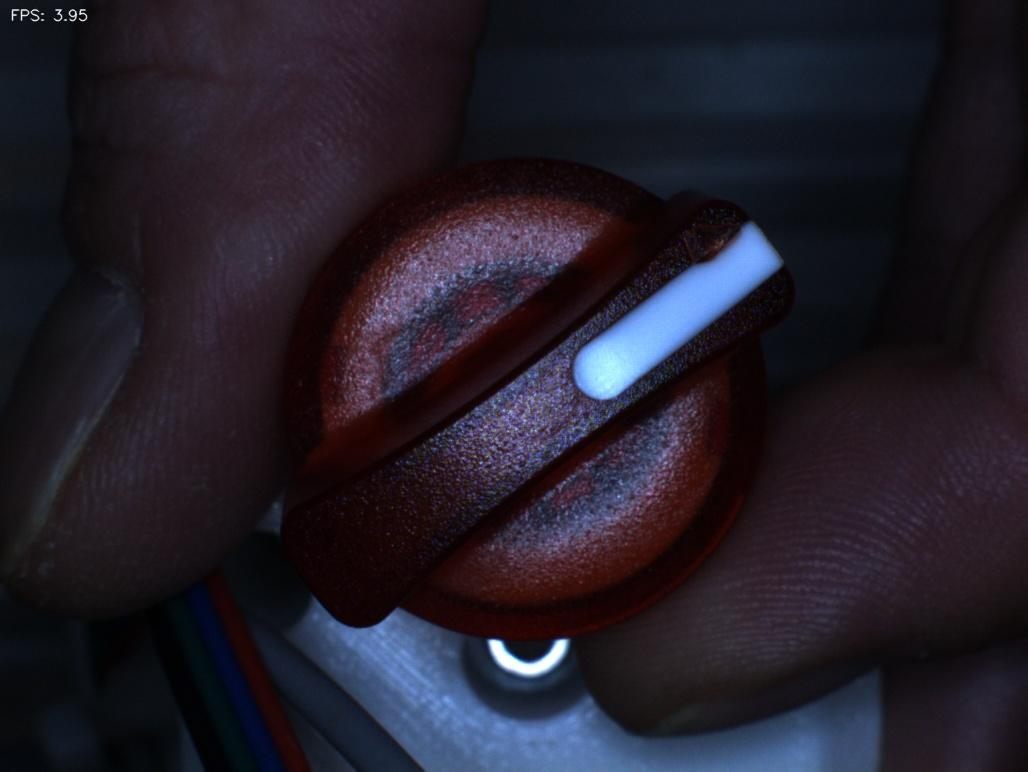Choc: (664, 195, 749, 278)
